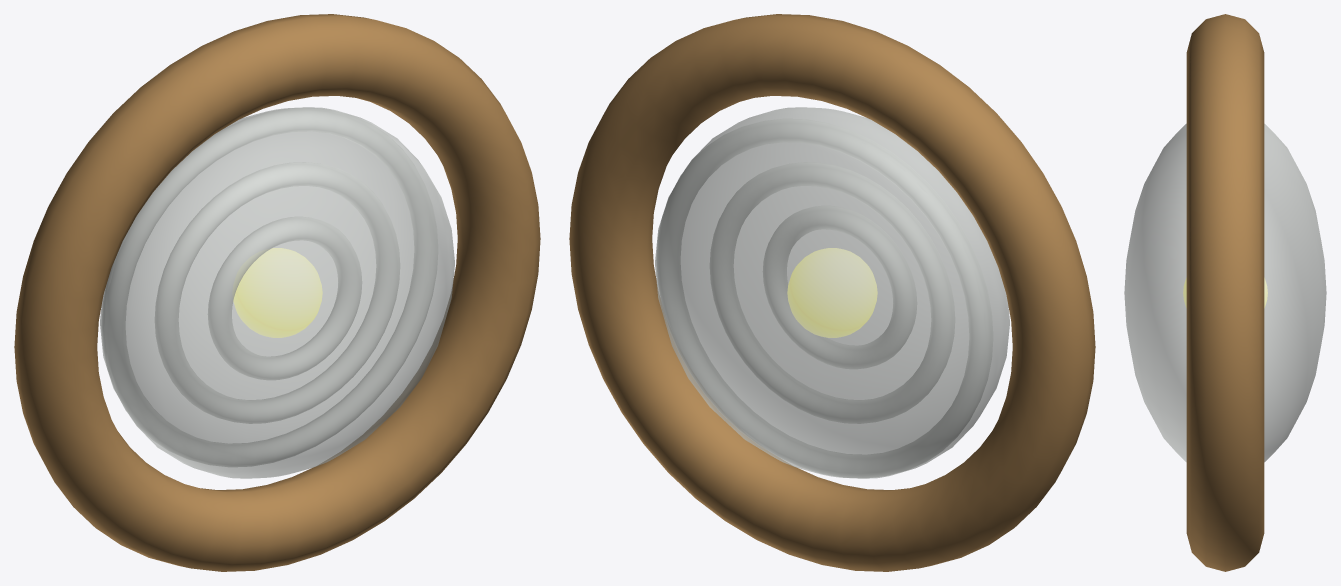
Rendered from signal_lens.glb.
3 views of the same model, side by side, from view 1: azimuth 30°, elevation 25°; view 2: azimuth 150°, elevation 25°; view 3: azimuth 270°, elevation 25° (orthographic). The views are drawn at different scales.
Visible parts, largest first — view 1: Ring, Glass, Ridge.002, Ridge.001, Ridge, Core; view 2: Ring, Glass, Ridge.002, Ridge.001, Ridge, Core; view 3: Ring, Glass.
Part boxes in pixels (box(x1,y1,x2,y2)): Ring: box(14, 14, 540, 571); Glass: box(100, 107, 454, 478); Ridge.002: box(101, 107, 437, 466); Ridge.001: box(155, 162, 399, 423); Ridge: box(208, 217, 361, 379); Core: box(233, 248, 322, 337); Ring: box(569, 14, 1095, 571); Glass: box(655, 107, 1009, 478); Ridge.002: box(656, 119, 992, 477); Ridge.001: box(710, 162, 954, 423); Ridge: box(763, 206, 916, 368); Core: box(787, 248, 877, 337); Ring: box(1186, 14, 1264, 571); Glass: box(1124, 123, 1326, 462).
Bounding box in the file's own units: 0.79 × 0.79 × 0.286.
